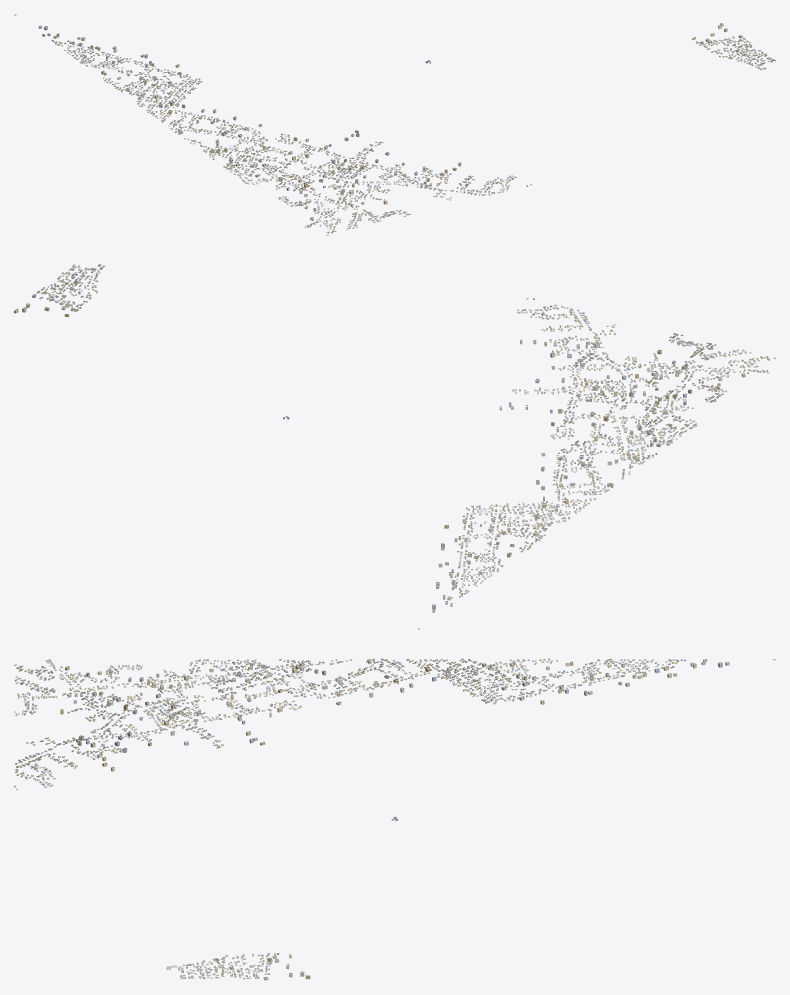
The picture shows the model from 3 angles, top to bottom: view 1: azimuth 30°, elevation 25°; view 2: azimuth 150°, elevation 25°; view 3: azimuth 270°, elevation 25°; orthographic projection. The views are drawn at different scales.
Visible parts, largest first — view 1: house, apartment, roof_zinc; view 2: house, roof_zinc, apartment; view 3: house, apartment, roof_zinc.
Part boxes in pixels (left/top/right/bottom): house: left=14, top=14, right=775, bottom=235; apartment: left=38, top=23, right=747, bottom=220; roof_zinc: left=54, top=36, right=773, bottom=235; house: left=33, top=264, right=775, bottom=629; roof_zinc: left=37, top=264, right=775, bottom=629; apartment: left=14, top=280, right=745, bottom=612; house: left=14, top=658, right=775, bottom=979; apartment: left=60, top=659, right=729, bottom=980; roof_zinc: left=14, top=659, right=678, bottom=978.
Size of the model in its own units: 1.4e+08 by 732075 by 1.4e+08.
